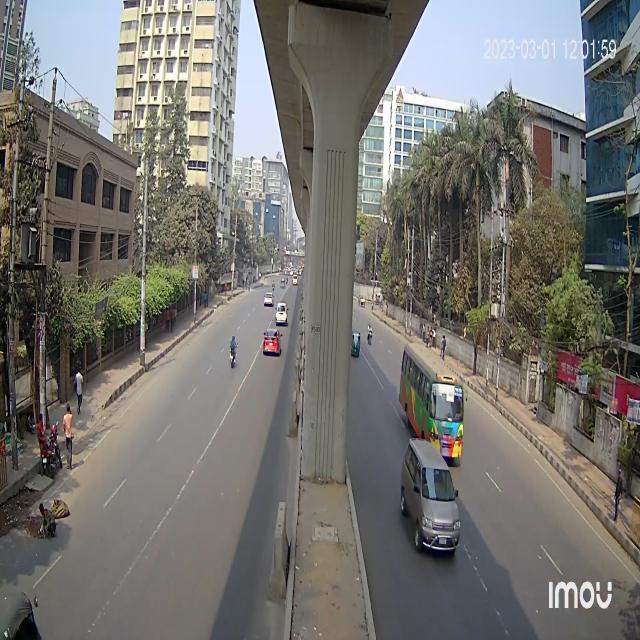cng: (349, 327, 364, 363)
